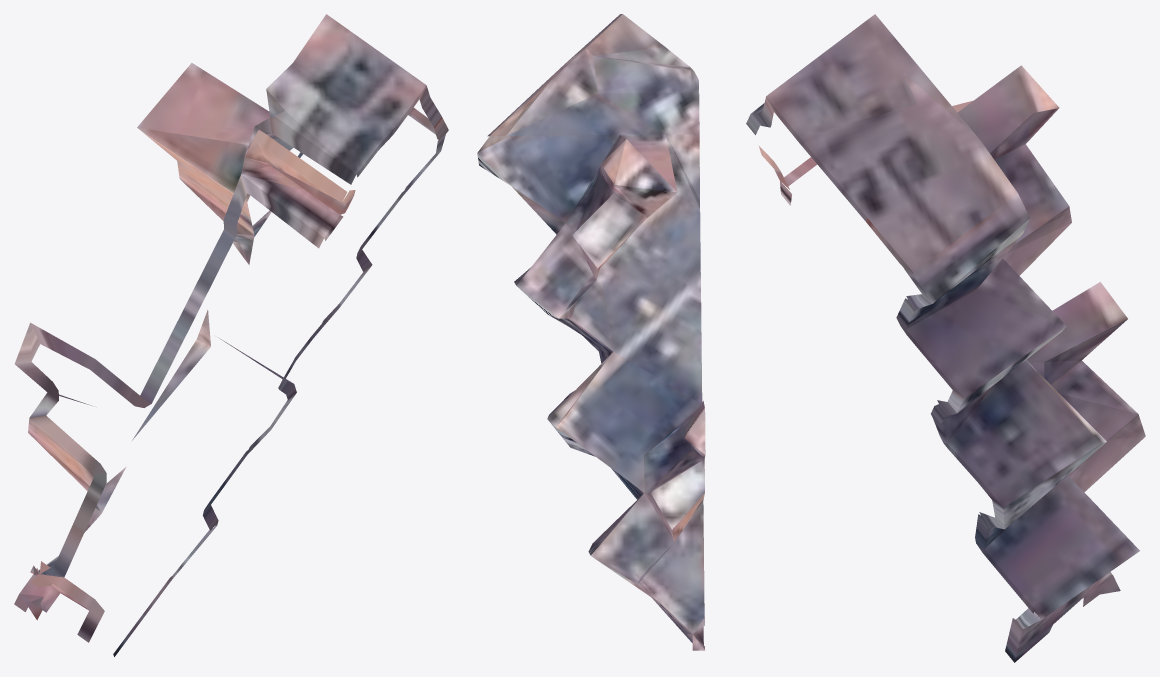
The picture shows the model from 3 angles, left to right: view 1: azimuth 30°, elevation 25°; view 2: azimuth 150°, elevation 25°; view 3: azimuth 270°, elevation 25°; orthographic projection. The views are drawn at different scales.
Size of the model in its own units: 25.66 by 45.95 by 22.78.
Materials: 1 (1 with a texture image).
